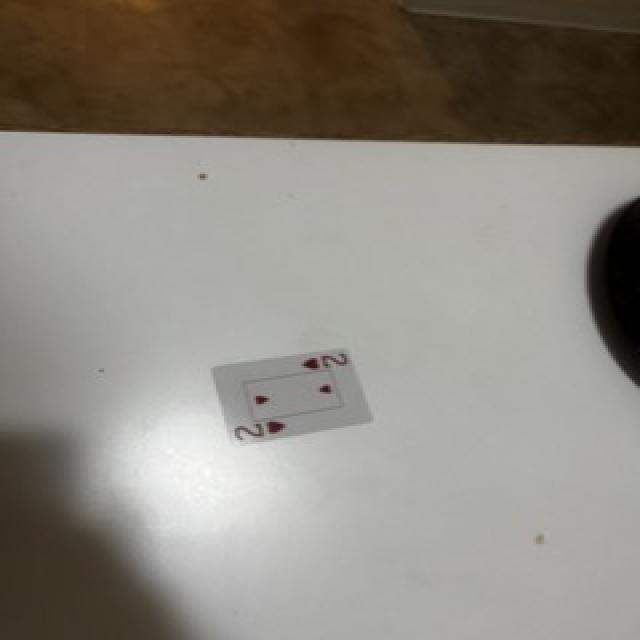2 of hearts: (213, 350, 372, 444)
